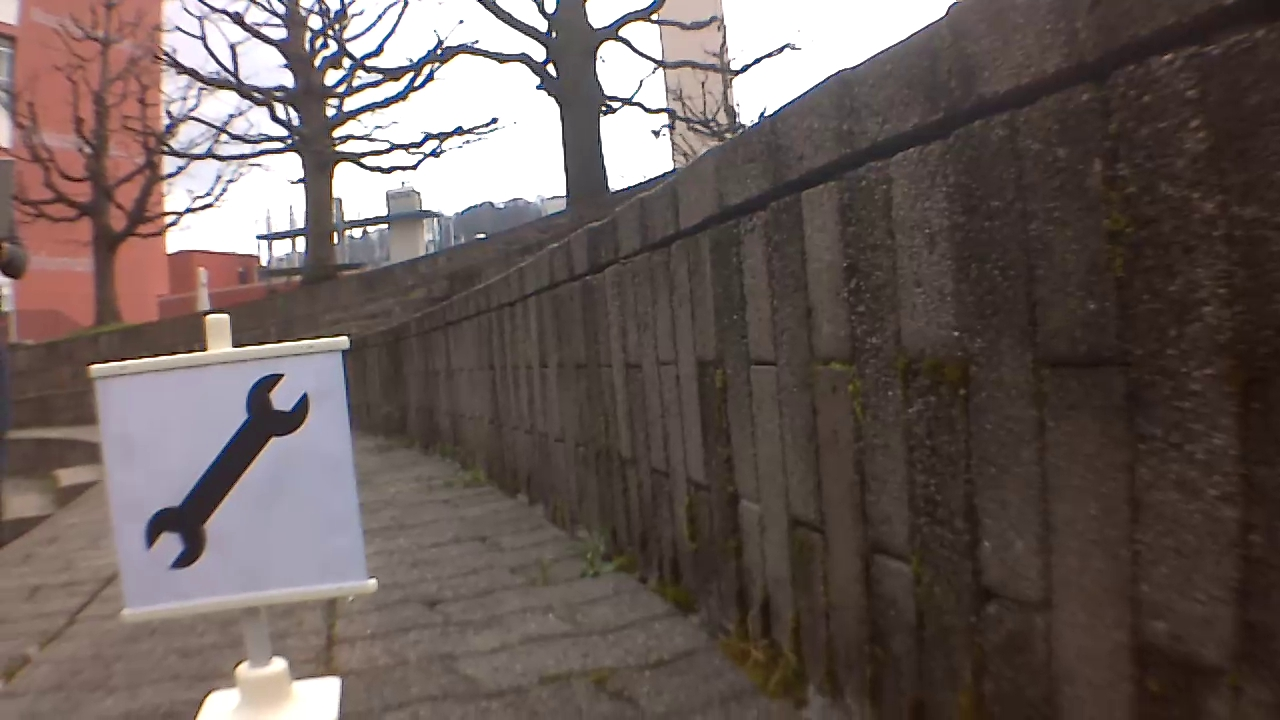wrench: (138, 371, 311, 574)
